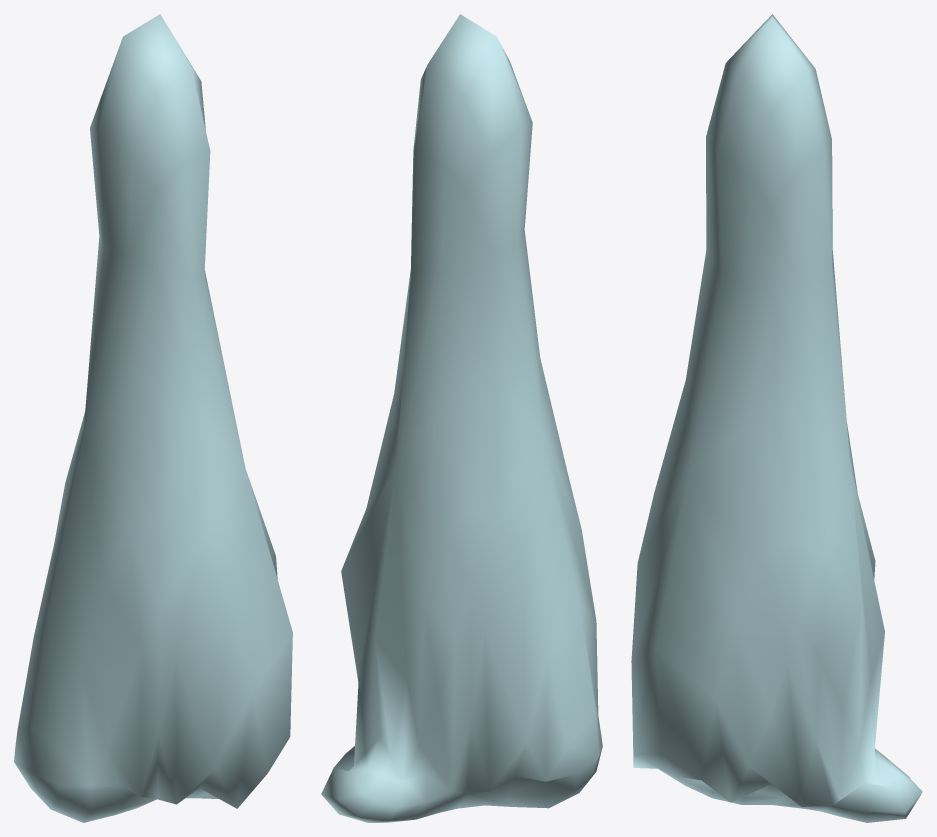
The model's file is blender env assets med ice spike 3.fbx.
3 renders of one model, left to right at view 1: azimuth 30°, elevation 25°; view 2: azimuth 150°, elevation 25°; view 3: azimuth 270°, elevation 25°, orthographic.
Visible parts, largest first — view 1: rock.041; view 2: rock.041; view 3: rock.041.
Boxes of the visible parts, x1,y1,x2,y2 form: rock.041: [14, 14, 292, 822]; rock.041: [321, 14, 602, 822]; rock.041: [631, 14, 922, 822].
Bounding box in the file's own units: 59.85 × 193 × 64.98.
